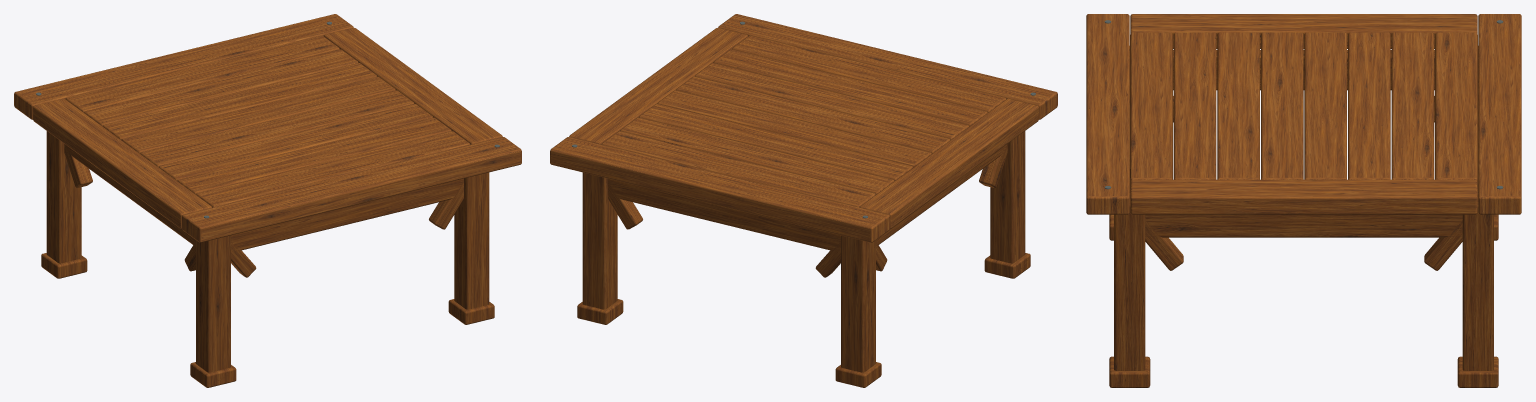
File: Cruce_Table_Wood.glb
The picture shows the model from 3 angles, left to right: view 1: azimuth 30°, elevation 25°; view 2: azimuth 150°, elevation 25°; view 3: azimuth 270°, elevation 25°; orthographic projection. The views are drawn at different scales.
Visible parts, largest first — view 1: Cruce_Table_Wood; view 2: Cruce_Table_Wood; view 3: Cruce_Table_Wood.
Part boxes in pixels (x1,y1,x2,y2): Cruce_Table_Wood: (14,14,521,387); Cruce_Table_Wood: (550,14,1057,387); Cruce_Table_Wood: (1086,14,1521,387).
Bounding box in the file's own units: 1.6 × 0.82 × 1.6.
3 materials, 2 textured.
